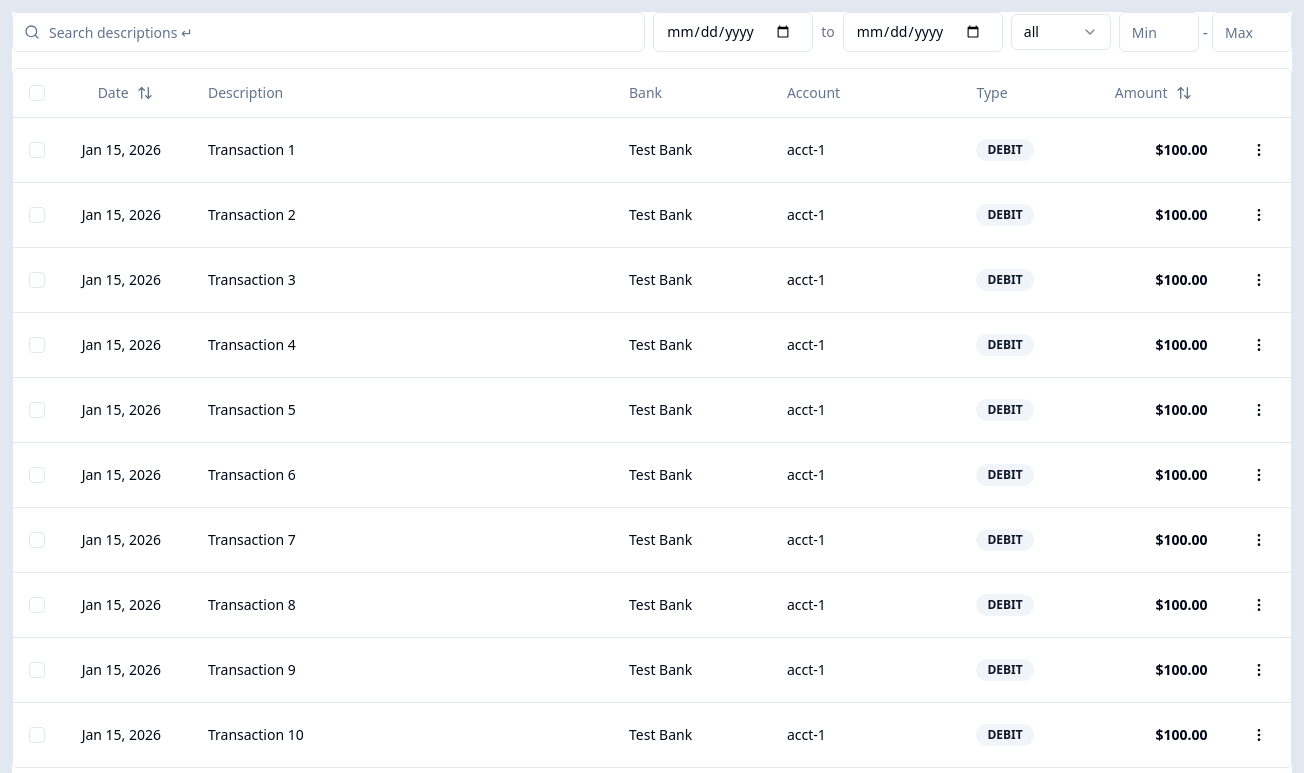
Test case: TransactionTable presentation pagination and amount readiness › paginates for presentation while select-all matching retains the complete row set
This screenshot has width=1304, height=773.
Click the checkbox named "Select transactions on this page for deletion".
click(37, 93)  # box [29, 85, 45, 101]
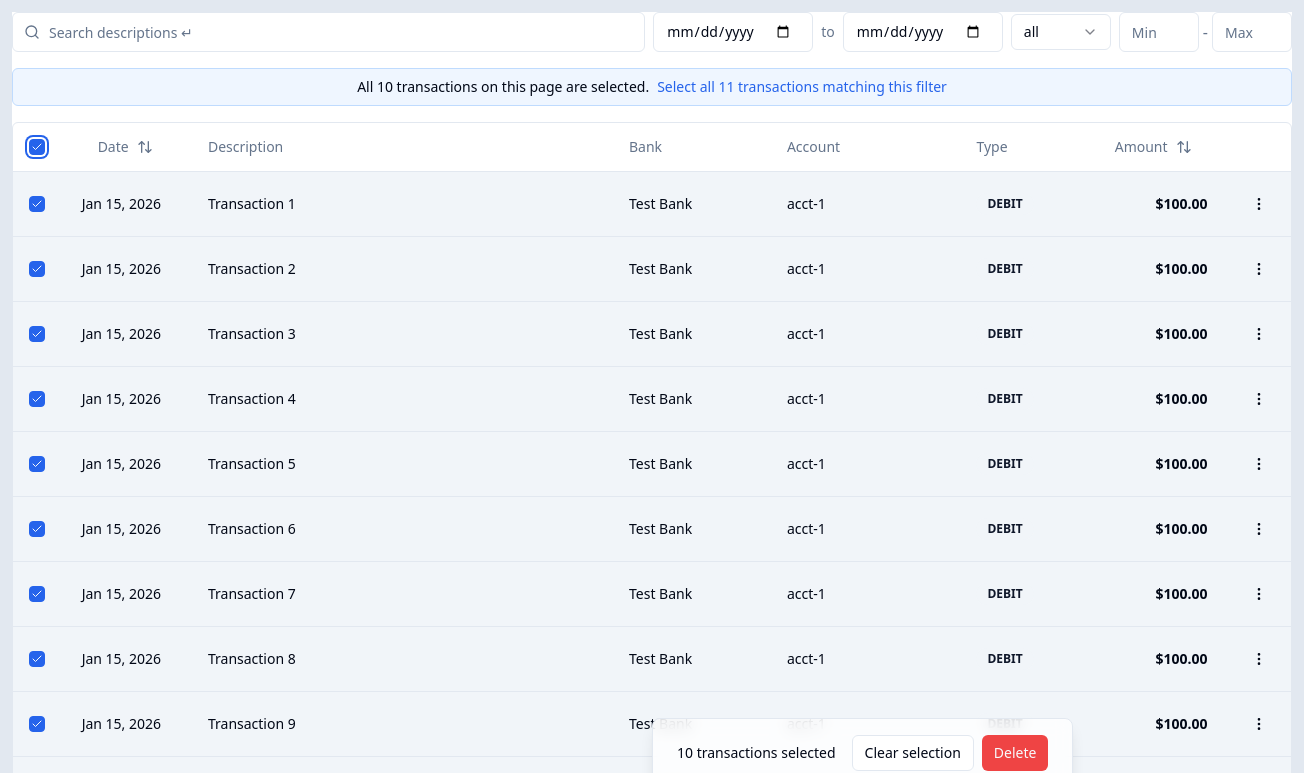
Click the button "Select all 11 transactions matching this filter".
click(802, 87)  # box [657, 77, 947, 97]
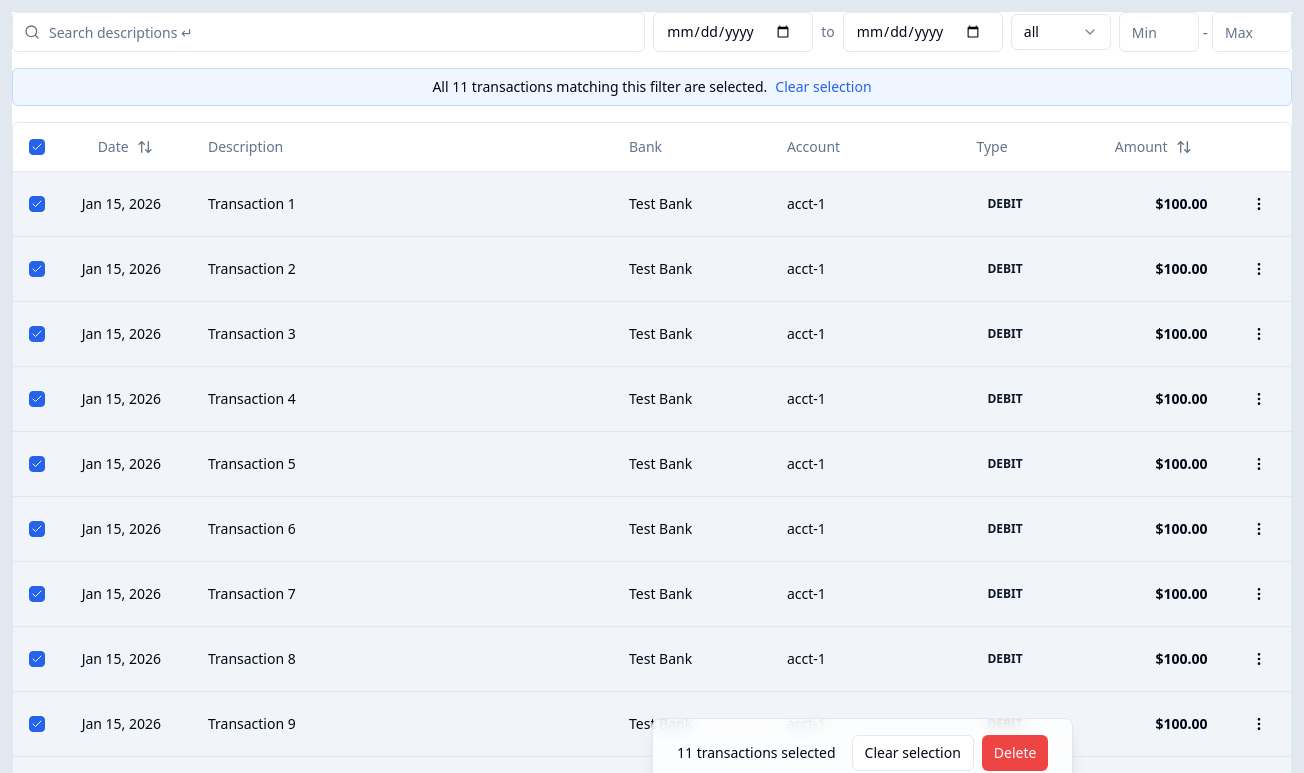
Result: the text "11 transactions selected" is shown at [677, 743, 836, 763]
